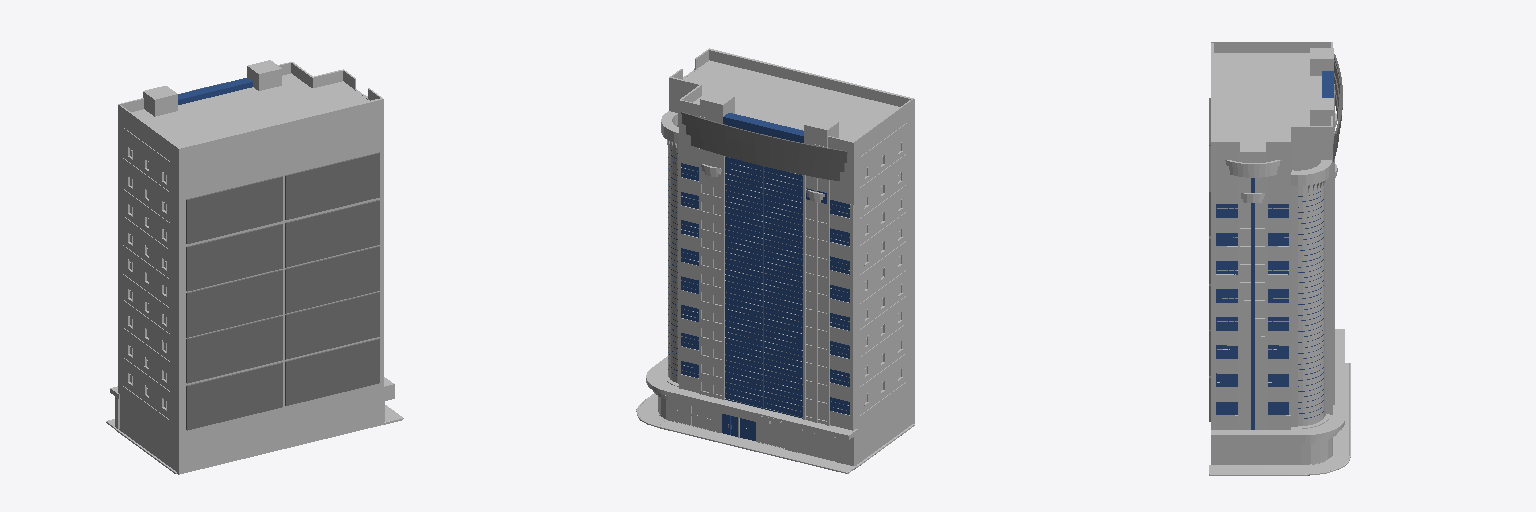
File: Building.obj
3 renders of one model, left to right at view 1: azimuth 30°, elevation 25°; view 2: azimuth 150°, elevation 25°; view 3: azimuth 270°, elevation 25°, orthographic.
Visible parts, largest first — view 1: Cube.142, Cube.143, Cube.190_1, Cube.144, Cube.150, Cube.146, Cube.148, Cube.152, Cube.147, Cube.151, Cube.145, Cube.149 (+4 smaller); view 2: Cube.76, Cube.143, Cube.190_1, Cube.71, Cube.173, Cube.142, Cube.12_27, Tube.7, Tube.13, Tube.12, Cube.26_1, Tube.11 (+16 smaller); view 3: Cube.190_1, Tube.7, Cube.208, Cube.48, Cube.52, Cube.141, Cube.342, Cube.140, Cube.143, Cube.344, Cube.30, Cube.12_27 (+10 smaller).
Boxes of the visible parts, x1=… form: Cube.142: x1=177, y1=98, x2=383, y2=474; Cube.143: x1=118, y1=104, x2=179, y2=471; Cube.190_1: x1=131, y1=73, x2=369, y2=146; Cube.144: x1=186, y1=362, x2=282, y2=430; Cube.150: x1=186, y1=270, x2=282, y2=337; Cube.146: x1=186, y1=176, x2=282, y2=243; Cube.148: x1=186, y1=224, x2=282, y2=291; Cube.152: x1=186, y1=316, x2=282, y2=383; Cube.147: x1=285, y1=200, x2=379, y2=267; Cube.151: x1=285, y1=292, x2=379, y2=359; Cube.145: x1=285, y1=152, x2=379, y2=219; Cube.149: x1=285, y1=246, x2=379, y2=313; Cube.76: x1=725, y1=157, x2=802, y2=418; Cube.143: x1=853, y1=98, x2=913, y2=463; Cube.190_1: x1=683, y1=60, x2=899, y2=141; Cube.71: x1=804, y1=142, x2=827, y2=424; Cube.173: x1=700, y1=116, x2=722, y2=398; Cube.142: x1=709, y1=49, x2=914, y2=423; Cube.12_27: x1=665, y1=385, x2=857, y2=439; Tube.7: x1=668, y1=148, x2=677, y2=382; Tube.13: x1=682, y1=115, x2=846, y2=162; Tube.12: x1=686, y1=125, x2=844, y2=171; Cube.26_1: x1=659, y1=420, x2=856, y2=473; Tube.11: x1=691, y1=136, x2=839, y2=180; Cube.190_1: x1=1214, y1=53, x2=1321, y2=150; Tube.7: x1=1298, y1=189, x2=1323, y2=425; Cube.208: x1=1240, y1=151, x2=1265, y2=429; Cube.48: x1=1290, y1=126, x2=1332, y2=414; Cube.52: x1=1291, y1=186, x2=1297, y2=426; Cube.141: x1=1211, y1=141, x2=1215, y2=429; Cube.342: x1=1266, y1=141, x2=1290, y2=203; Cube.140: x1=1216, y1=141, x2=1239, y2=203; Cube.143: x1=1211, y1=42, x2=1330, y2=52; Cube.344: x1=1251, y1=178, x2=1254, y2=429; Cube.30: x1=1211, y1=429, x2=1305, y2=439; Cube.12_27: x1=1329, y1=329, x2=1344, y2=418.
Bounding box in the file's own units: 2735 × 3779 × 1460.